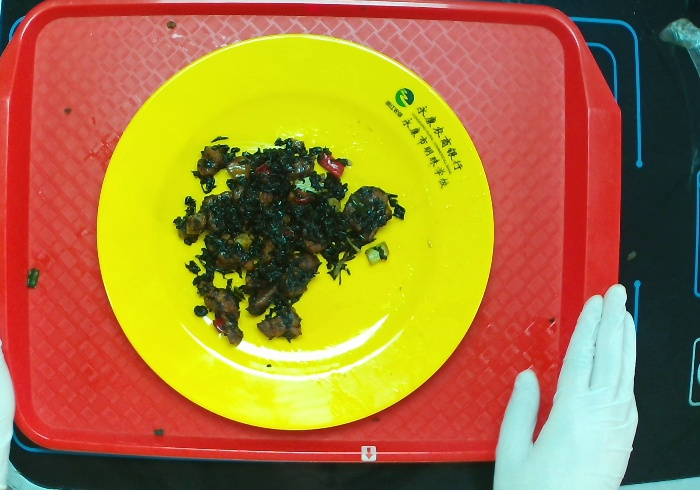YKMZ-Huang_Se_Mian_Pan: (82, 41, 493, 437)
